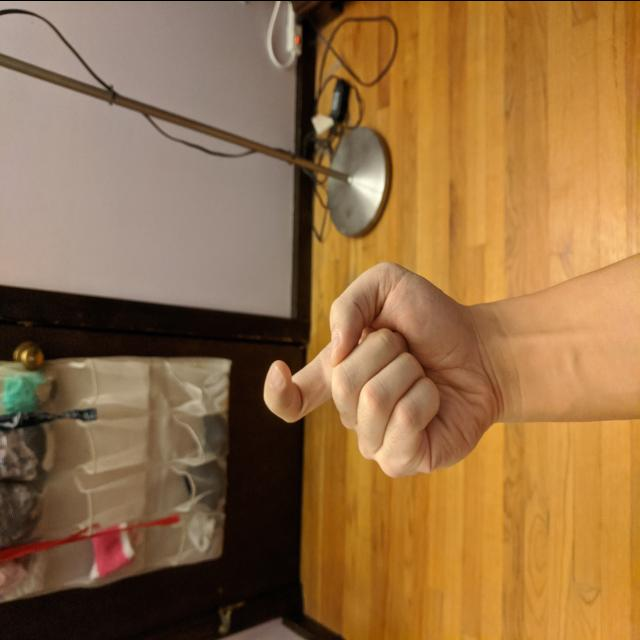X: (259, 254, 503, 486)
